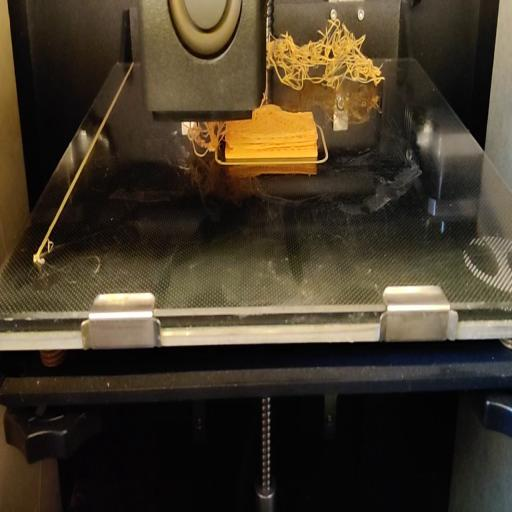spaghetti: (265, 15, 385, 89), (188, 118, 226, 153)
